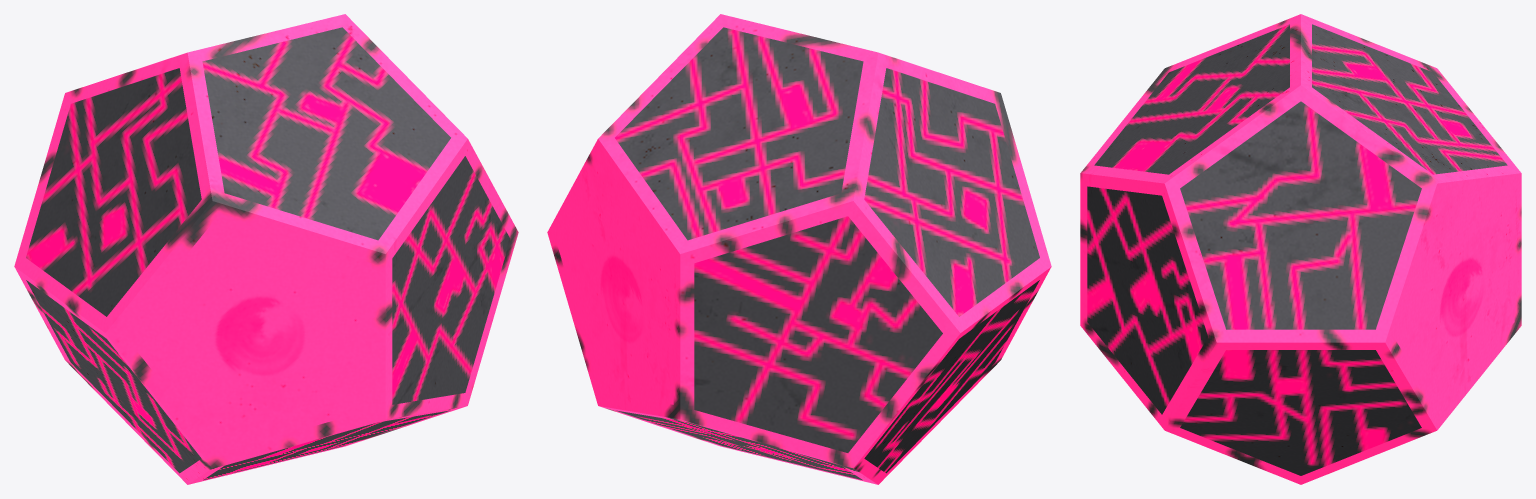
3 views of the same model, side by side, from view 1: azimuth 30°, elevation 25°; view 2: azimuth 150°, elevation 25°; view 3: azimuth 270°, elevation 25° (orthographic). The views are drawn at different scales.
Visible parts, largest first — view 1: pPlatonic1 (×2); view 2: pPlatonic1 (×2); view 3: pPlatonic1 (×2).
Part boxes in pixels (x1,y1,x2,y2): pPlatonic1 (×2): (14,14,518,484); pPlatonic1 (×2): (547,14,1051,484); pPlatonic1 (×2): (1080,14,1521,484).
Bounding box in the file's own units: 1.87 × 1.87 × 1.87.
Materials: 2 (2 with a texture image).
